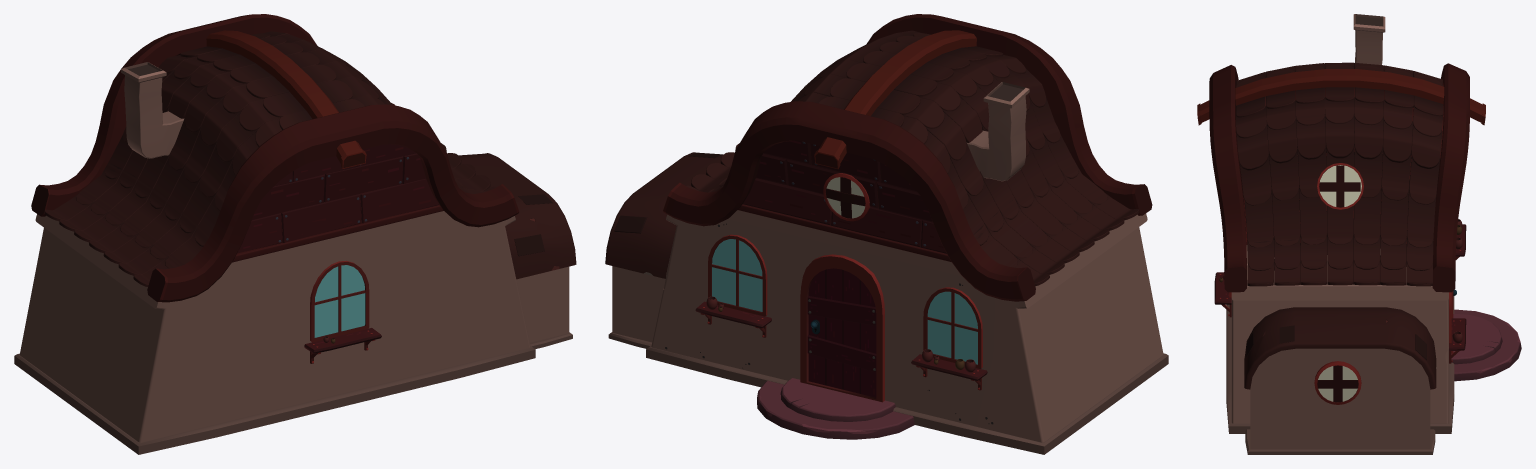
The model's file is StartingHouse.fbx.
The picture shows the model from 3 angles, left to right: view 1: azimuth 30°, elevation 25°; view 2: azimuth 150°, elevation 25°; view 3: azimuth 270°, elevation 25°; orthographic projection. The views are drawn at different scales.
Parts seen in each view (by area): view 1: StartingHouse; view 2: StartingHouse; view 3: StartingHouse.
Boxes of the visible parts, <box> form: StartingHouse: <box>14,14,576,454</box>; StartingHouse: <box>605,14,1168,454</box>; StartingHouse: <box>1197,14,1521,454</box>.
Bounding box in the file's own units: 20.63 × 13.64 × 14.44.
